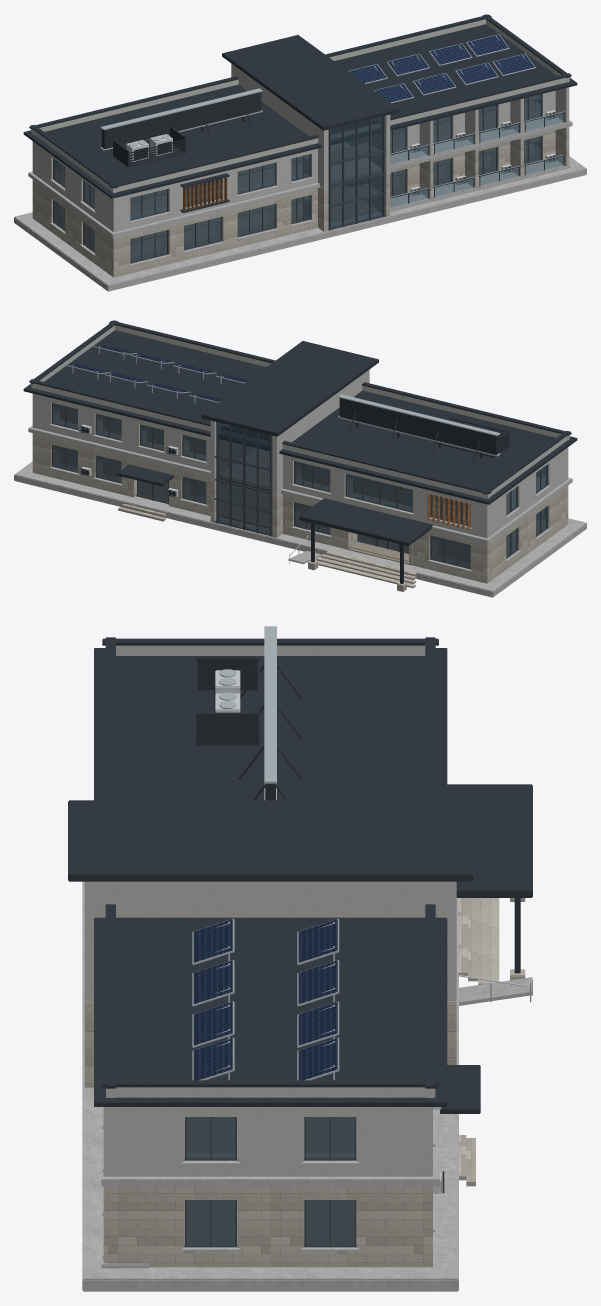
File: office.glb
3 renders of one model, top to bottom at view 1: azimuth 30°, elevation 25°; view 2: azimuth 150°, elevation 25°; view 3: azimuth 270°, elevation 25°, orthographic. The views are drawn at different scales.
Parts seen in each view (by area): view 1: Mat_CharcoalMetal, Mat_ArchConcrete, Mat_WarmStucco, Mat_ArchGlass, Mat_AshlarStone, Mat_DarkAlum, Mat_SolarPanel, Mat_InteriorWall, Mat_InteriorFloor, Mat_BalconyGlass, Mat_BrushedSteel, Mat_WindowBlinds (+3 smaller); view 2: Mat_CharcoalMetal, Mat_WarmStucco, Mat_ArchGlass, Mat_ArchConcrete, Mat_AshlarStone, Mat_DarkAlum, Mat_InteriorFloor, Mat_InteriorWall, Mat_BrushedSteel, Mat_WindowBlinds, Mat_SolarPanel, Mat_CedarWood; view 3: Mat_CharcoalMetal, Mat_WarmStucco, Mat_AshlarStone, Mat_ArchConcrete, Mat_SolarPanel, Mat_ArchGlass, Mat_InteriorWall, Mat_BrushedSteel, Mat_DarkAlum, Mat_ACUnit.
Boxes of the visible parts, <box> form: Mat_CharcoalMetal: <box>23,14,577,212</box>; Mat_ArchConcrete: <box>14,103,586,291</box>; Mat_WarmStucco: <box>31,19,569,232</box>; Mat_ArchGlass: <box>54,94,540,262</box>; Mat_AshlarStone: <box>32,127,569,277</box>; Mat_DarkAlum: <box>53,94,542,263</box>; Mat_SolarPanel: <box>348,34,534,102</box>; Mat_InteriorWall: <box>58,101,536,256</box>; Mat_InteriorFloor: <box>55,142,540,261</box>; Mat_BalconyGlass: <box>390,113,563,207</box>; Mat_BrushedSteel: <box>100,34,564,197</box>; Mat_WindowBlinds: <box>130,95,539,241</box>; Mat_CharcoalMetal: <box>23,320,577,583</box>; Mat_WarmStucco: <box>31,325,569,538</box>; Mat_ArchGlass: <box>53,403,546,567</box>; Mat_ArchConcrete: <box>14,412,586,597</box>; Mat_AshlarStone: <box>32,433,568,591</box>; Mat_DarkAlum: <box>52,403,547,569</box>; Mat_InteriorFloor: <box>54,456,545,567</box>; Mat_InteriorWall: <box>60,410,542,562</box>; Mat_BrushedSteel: <box>67,346,500,563</box>; Mat_WindowBlinds: <box>54,404,470,547</box>; Mat_SolarPanel: <box>68,345,248,401</box>; Mat_CedarWood: <box>427,492,470,530</box>; Mat_CharcoalMetal: <box>68,637,532,1192</box>; Mat_WarmStucco: <box>84,645,456,1176</box>; Mat_AshlarStone: <box>84,898,525,1267</box>; Mat_ArchConcrete: <box>82,881,532,1291</box>; Mat_SolarPanel: <box>193,919,337,1080</box>; Mat_ArchGlass: <box>186,1117,354,1245</box>; Mat_InteriorWall: <box>184,1117,356,1244</box>; Mat_BrushedSteel: <box>192,626,531,1080</box>; Mat_DarkAlum: <box>184,1117,356,1247</box>; Mat_ACUnit: <box>215,670,441,1193</box>.
Size of the model in its own units: 46.4 by 11.1 by 19.5.
17 materials, 6 textured.
